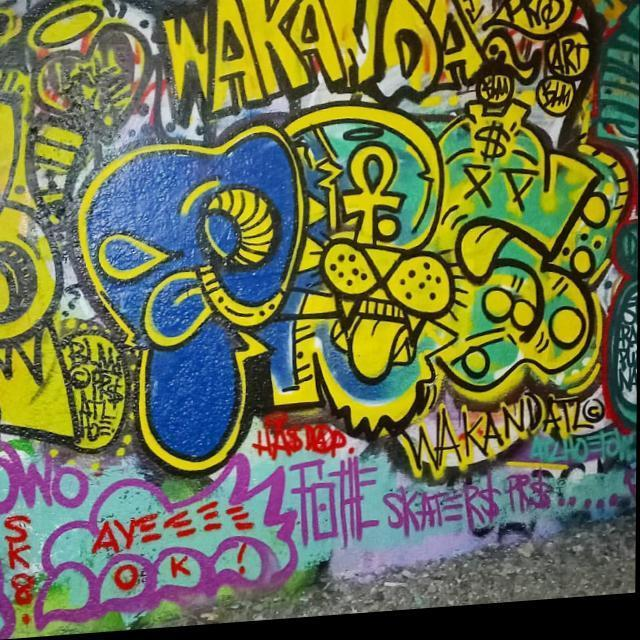-: (76, 124, 614, 472), (161, 0, 494, 125), (56, 471, 302, 611), (486, 0, 586, 132), (386, 479, 560, 540), (68, 336, 124, 450), (256, 419, 358, 472), (614, 298, 638, 429)
